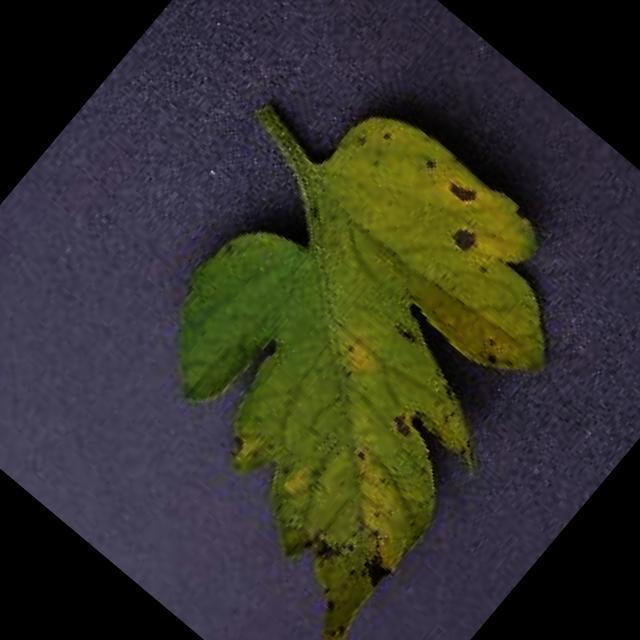Tomato Septoria spot leaf: (49, 72, 640, 640)
